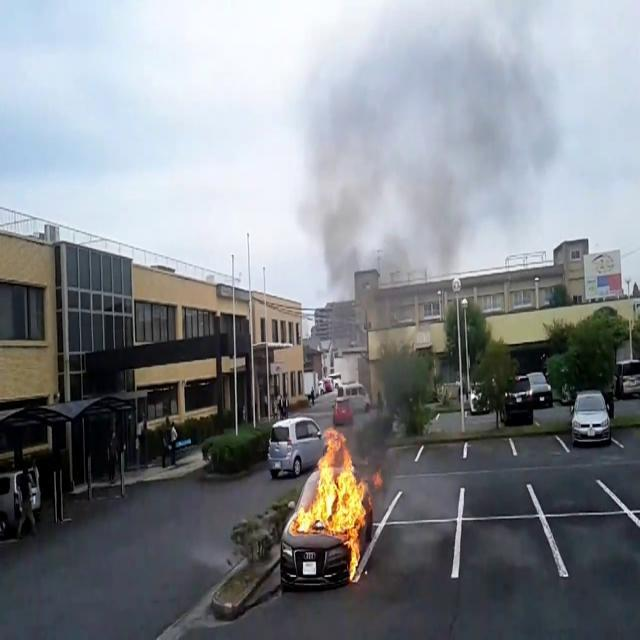Fire: (292, 424, 372, 578)
Smoke: (296, 11, 520, 397)
